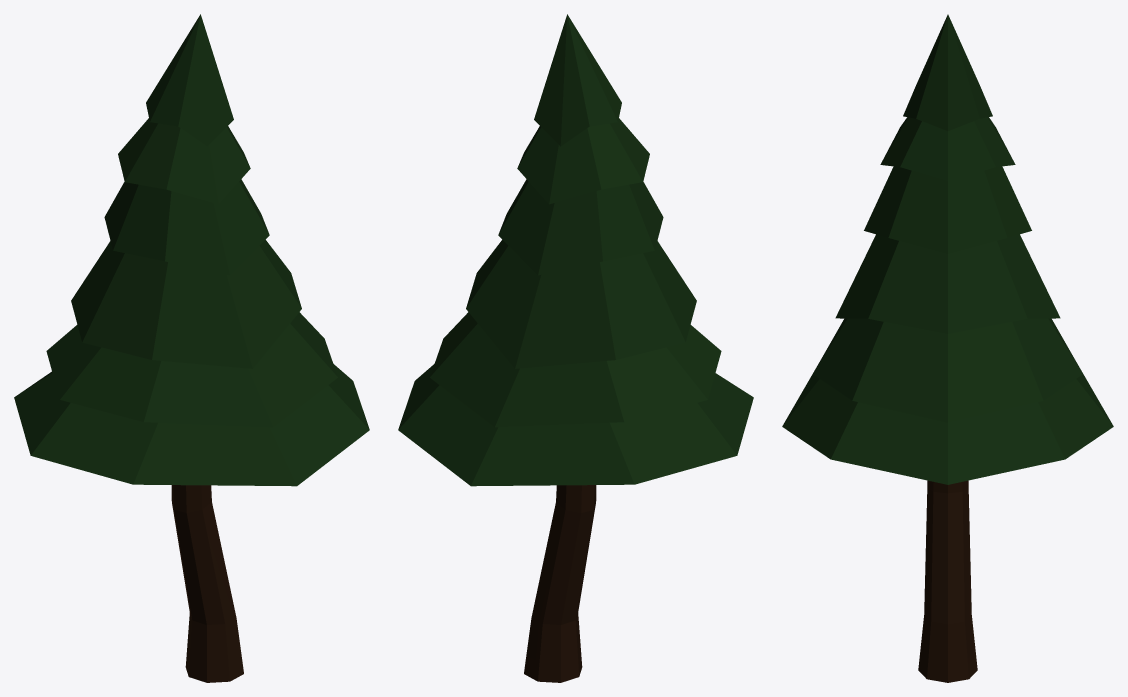
The model's file is Tree5.FBX.
3 views of the same model, side by side, from view 1: azimuth 30°, elevation 25°; view 2: azimuth 150°, elevation 25°; view 3: azimuth 270°, elevation 25° (orthographic).
Visible parts, largest first — view 1: pine tree 2; view 2: pine tree 2; view 3: pine tree 2.
Boxes of the visible parts, <box> form: pine tree 2: <box>14,14,369,682</box>; pine tree 2: <box>398,14,753,682</box>; pine tree 2: <box>782,14,1113,682</box>.
Bounding box in the file's own units: 1122 × 2193 × 1016.
